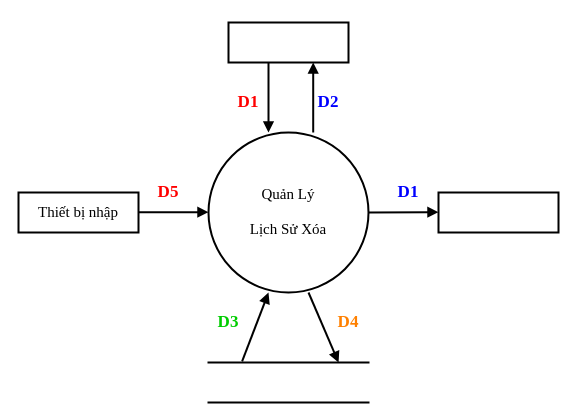
Some shapes in this 576 by 420 pixel diagram are drawn without their labels. Here are the shapes that lost their labels. From the top down, the centre of each, then its label:
point (288, 42): Nhân viên
point (498, 212): Thiết bị xuất
